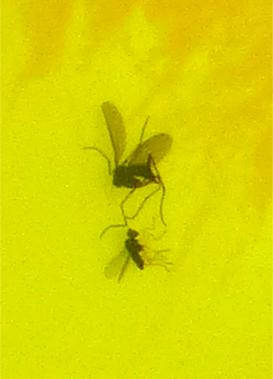Brachycera: (109, 215, 154, 279)
Nematocera: (100, 100, 173, 196)
